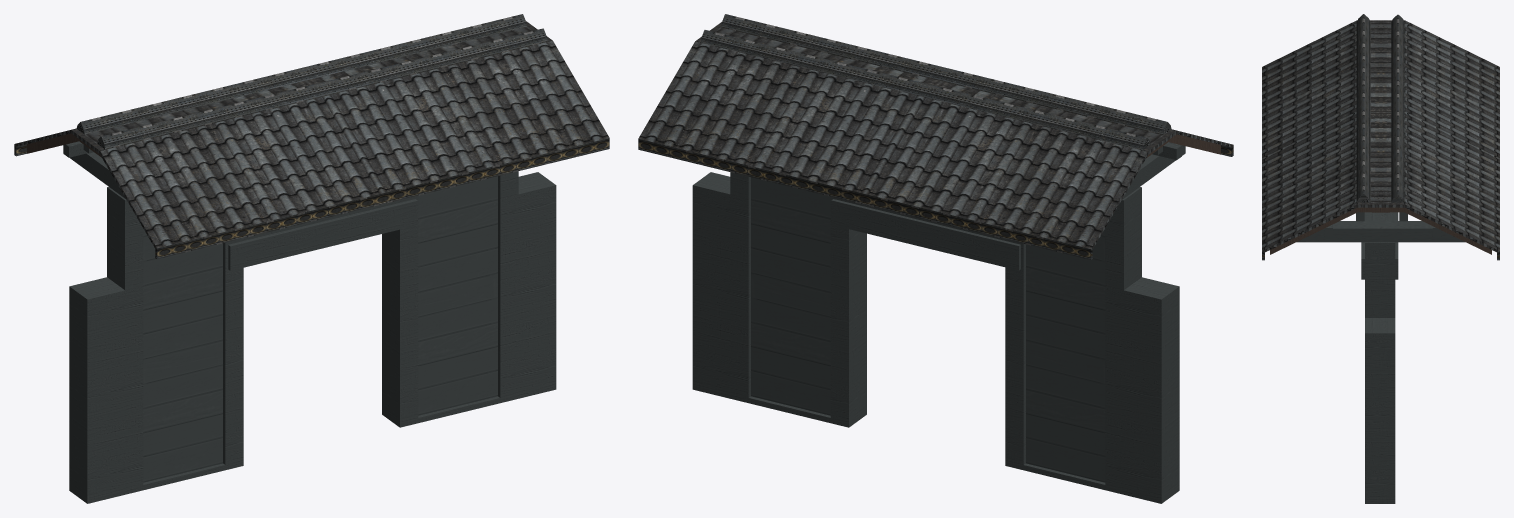
File: japanese_wall_entrance.FBX
The picture shows the model from 3 angles, left to right: view 1: azimuth 30°, elevation 25°; view 2: azimuth 150°, elevation 25°; view 3: azimuth 270°, elevation 25°; orthographic projection. The views are drawn at different scales.
Visible parts, largest first — view 1: japanese_wall_entrance_01; view 2: japanese_wall_entrance_01; view 3: japanese_wall_entrance_01.
Part boxes in pixels (x1,y1,x2,y2): japanese_wall_entrance_01: (14,14,609,503); japanese_wall_entrance_01: (638,14,1233,503); japanese_wall_entrance_01: (1262,14,1499,503).
Size of the model in its own units: 600 by 446 by 316.
